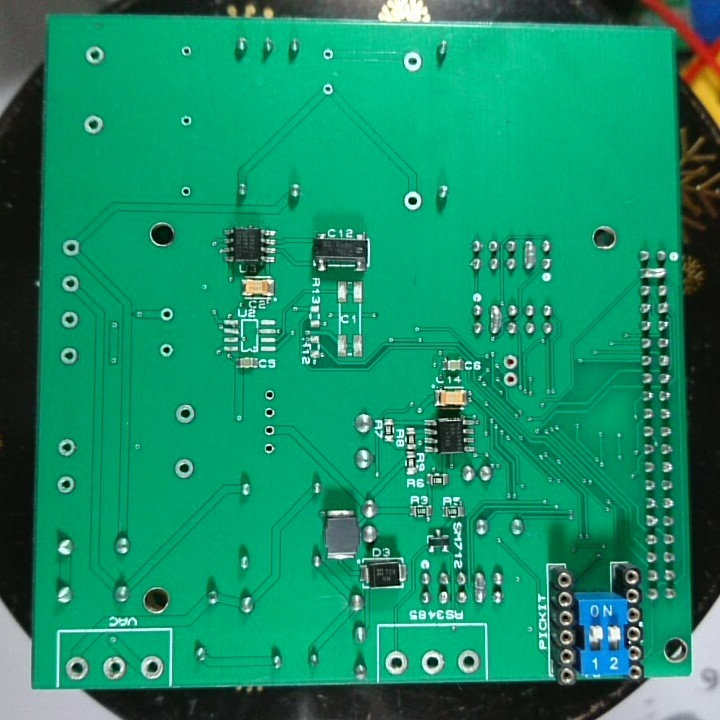F: (99, 652, 130, 685), (138, 652, 167, 683), (383, 648, 412, 678), (454, 647, 482, 676), (63, 654, 90, 683), (170, 456, 198, 483), (80, 112, 106, 138), (420, 649, 444, 677), (170, 403, 199, 426), (401, 49, 424, 77), (54, 436, 79, 461), (54, 471, 76, 499), (59, 236, 84, 260), (58, 345, 81, 371), (401, 188, 423, 215), (59, 272, 82, 296), (59, 308, 81, 331), (83, 43, 104, 67), (502, 369, 519, 392), (157, 341, 176, 361), (157, 305, 176, 325), (501, 353, 520, 371), (178, 112, 195, 131), (262, 437, 277, 458), (262, 421, 278, 439), (320, 46, 336, 63), (262, 386, 278, 403), (321, 80, 336, 98), (179, 42, 193, 60), (261, 405, 277, 420), (179, 183, 193, 200)
P: (636, 262, 671, 282), (521, 237, 539, 275), (472, 566, 487, 610), (488, 305, 504, 338)
